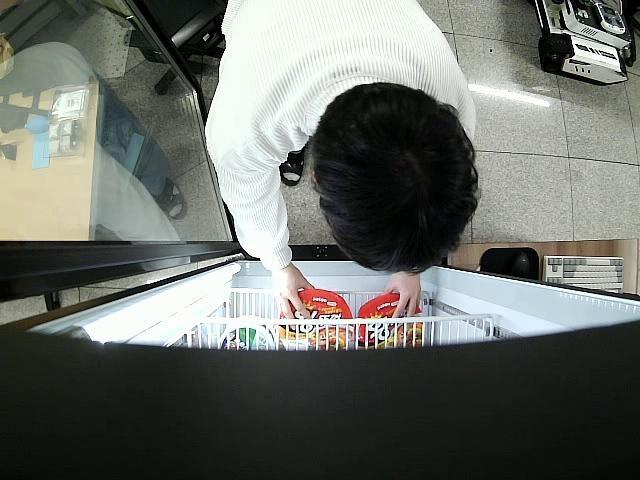10_wangTtukkeong: (278, 287, 352, 352), (358, 294, 422, 348)
